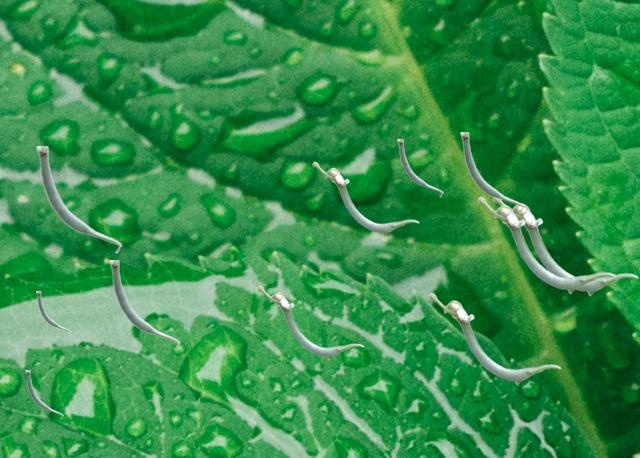french_bean: (492, 198, 637, 295), (477, 196, 615, 293), (428, 292, 560, 384), (36, 146, 121, 253), (257, 285, 363, 359), (312, 161, 418, 235), (109, 260, 179, 349), (460, 132, 523, 212), (397, 139, 442, 196), (25, 370, 62, 418), (36, 291, 70, 334)
